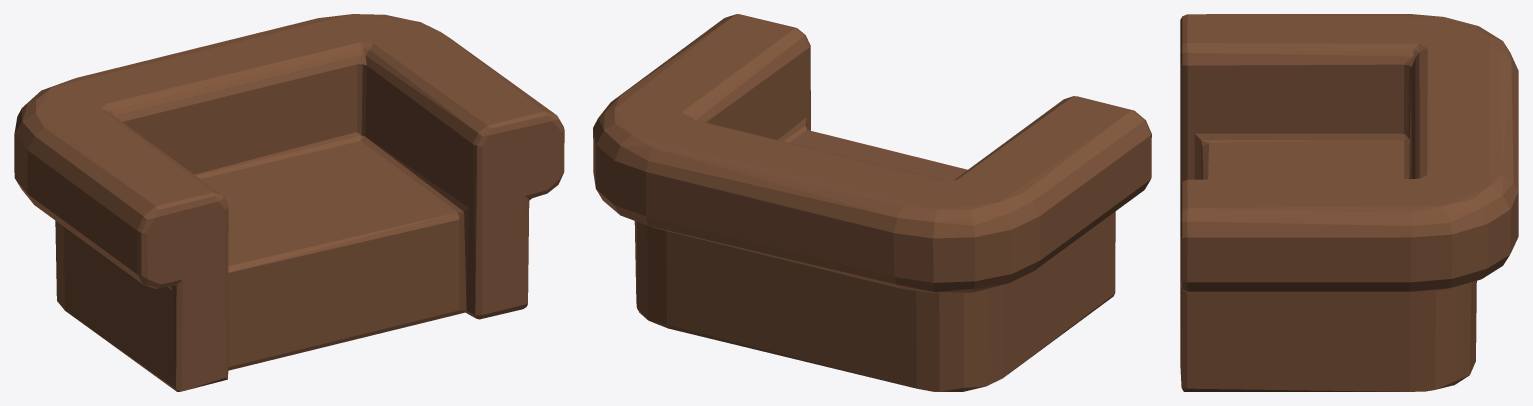
File: BrownChair_LP.fbx
The picture shows the model from 3 angles, left to right: view 1: azimuth 30°, elevation 25°; view 2: azimuth 150°, elevation 25°; view 3: azimuth 270°, elevation 25°; orthographic projection. The views are drawn at different scales.
Parts seen in each view (by area): view 1: Plane; view 2: Plane; view 3: Plane.
Part boxes in pixels (box(x1,y1,x2,y2)): Plane: box(14, 14, 564, 391); Plane: box(593, 14, 1151, 391); Plane: box(1180, 14, 1518, 391).
Size of the model in its own units: 698 by 469 by 299.
